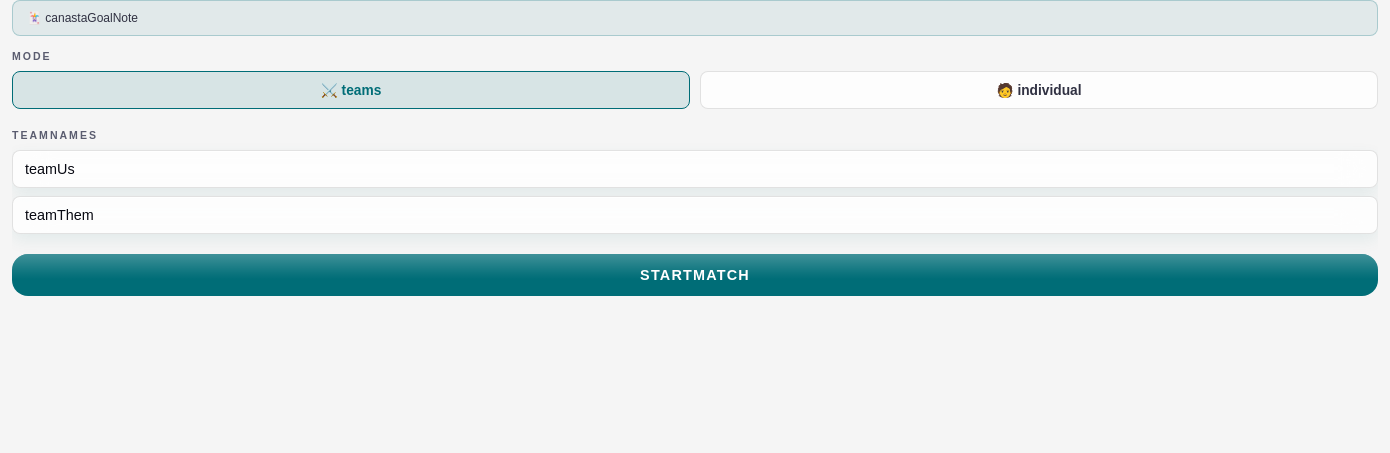
Test: CanastaNewMatch with more than 2 players (issue #31) › teams mode still works with exactly 2 slots
Step 1. Click the button "startMatch" → (695,275), box [12,254,1378,296]
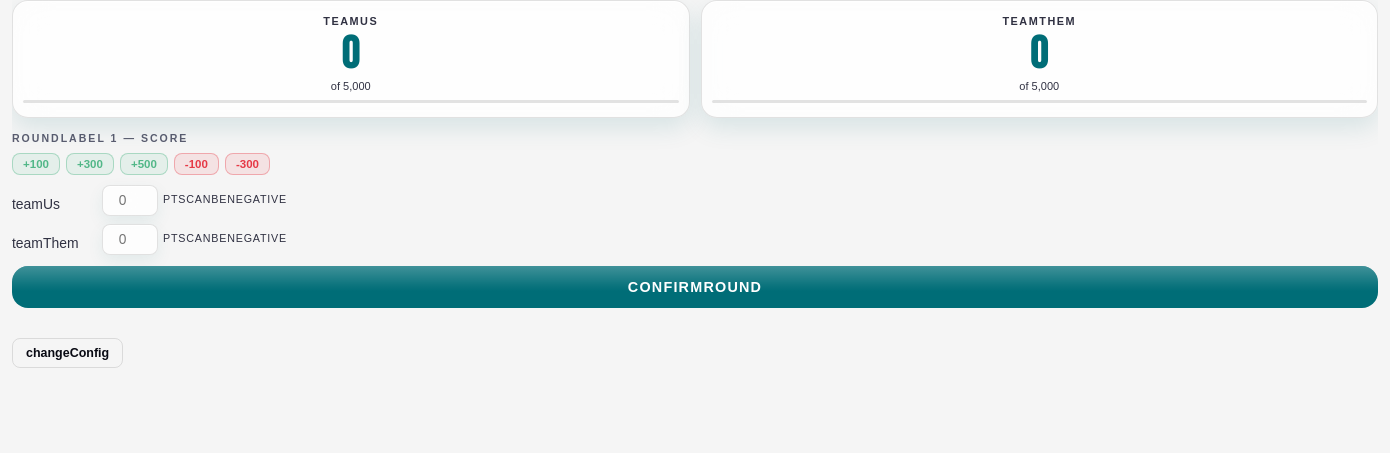
Step 2. Type "150" into the number field named "teamUs" → (130,200), box [102,185,158,216]
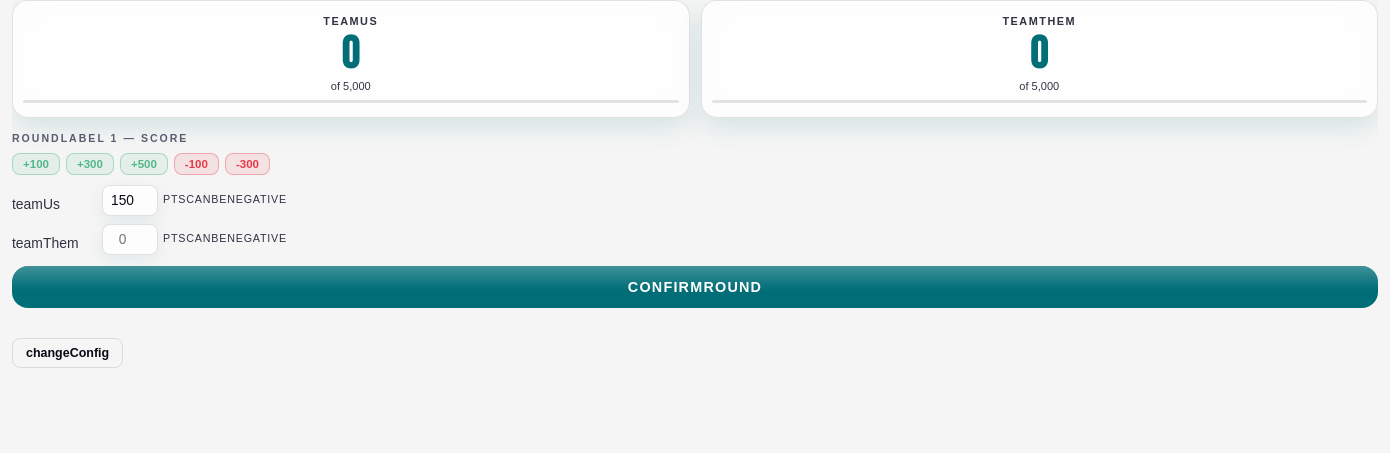
Step 3. Click the button "confirmRound" → (695,287), box [12,266,1378,308]
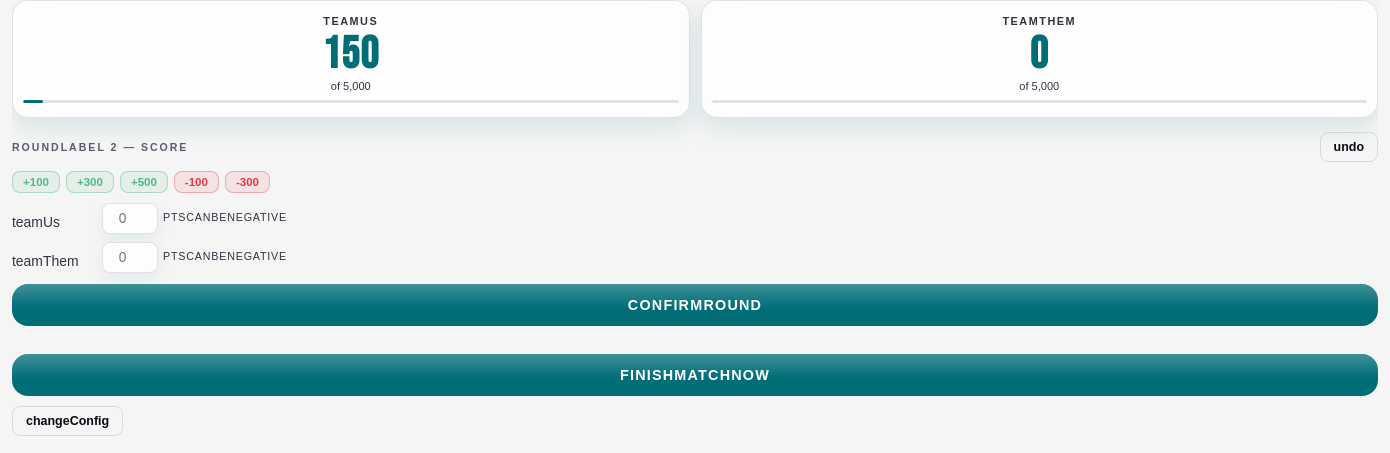
expect the element with test id "team-score-1" shows "0": met, box [1030,28,1049,81]
expect the element with test id "team-score-0" shows "150": met, box [322,28,379,81]
